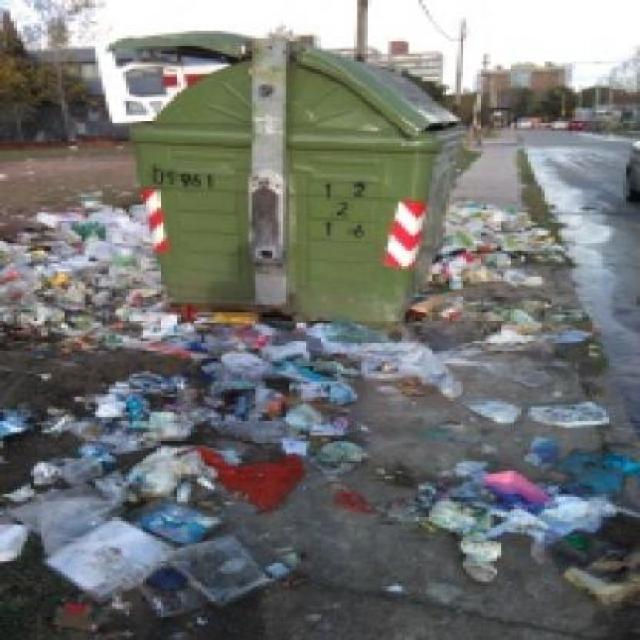garbage: (0, 200, 242, 624), (429, 448, 636, 610), (443, 197, 589, 346), (253, 318, 423, 410), (256, 420, 385, 520), (98, 42, 220, 129), (454, 389, 614, 430)
